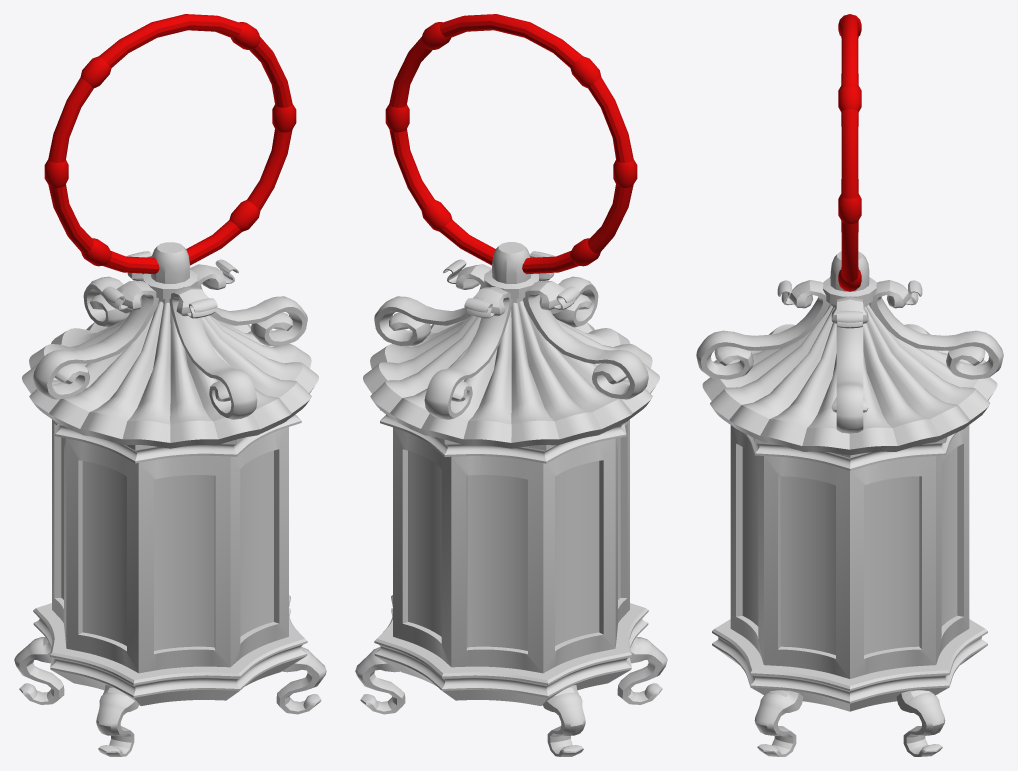
Rendered from lantern.fbx.
3 views of the same model, side by side, from view 1: azimuth 30°, elevation 25°; view 2: azimuth 150°, elevation 25°; view 3: azimuth 270°, elevation 25° (orthographic).
Visible parts, largest first — view 1: Cube.001, handle; view 2: Cube.001, handle; view 3: Cube.001, handle.
Part boxes in pixels (x1=…): Cube.001: x1=14, y1=242, x2=326, y2=756; handle: x1=44, y1=14, x2=296, y2=274; Cube.001: x1=355, y1=242, x2=667, y2=756; handle: x1=385, y1=14, x2=637, y2=274; Cube.001: x1=696, y1=251, x2=1003, y2=756; handle: x1=838, y1=14, x2=861, y2=291.
Size of the model in its own units: 44.99 by 110 by 44.99.
